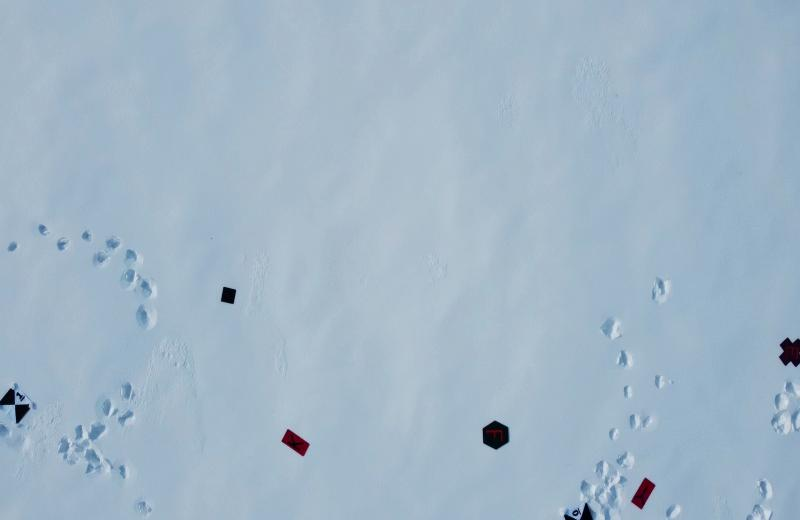Cross: (776, 332, 800, 370)
Hexagon: (478, 417, 512, 453)
Rectangle: (278, 424, 314, 460), (628, 472, 657, 511)
Square: (217, 284, 241, 307)
